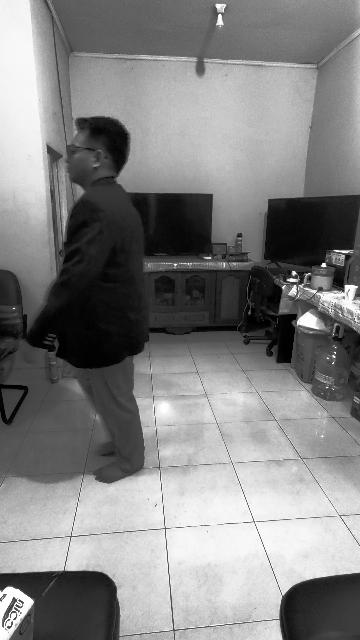berdiri: (24, 115, 148, 487)
